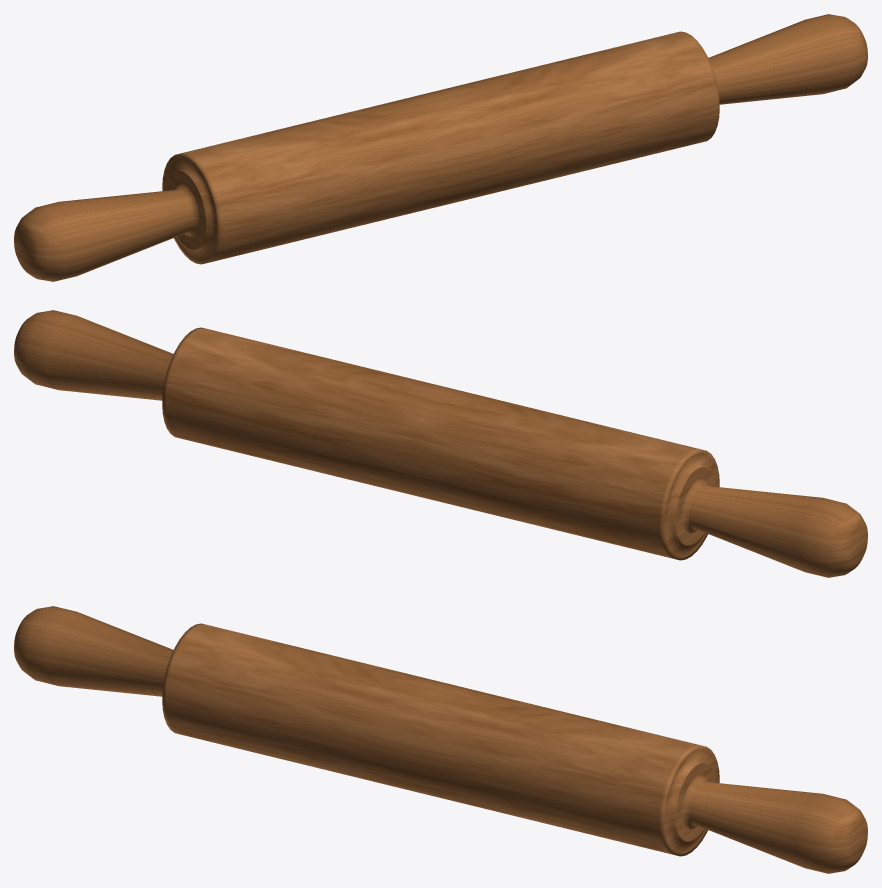
The model's file is RollingPin.fbx.
3 views of the same model, one above another, from view 1: azimuth 30°, elevation 25°; view 2: azimuth 150°, elevation 25°; view 3: azimuth 330°, elevation 25° (orthographic).
Parts seen in each view (by area): view 1: Cylinder; view 2: Cylinder; view 3: Cylinder.
Part boxes in pixels (x1=…): Cylinder: x1=14, y1=14, x2=867, y2=281; Cylinder: x1=14, y1=310, x2=867, y2=577; Cylinder: x1=14, y1=606, x2=867, y2=873.
Size of the model in its own units: 333 by 39.2 by 39.2.
